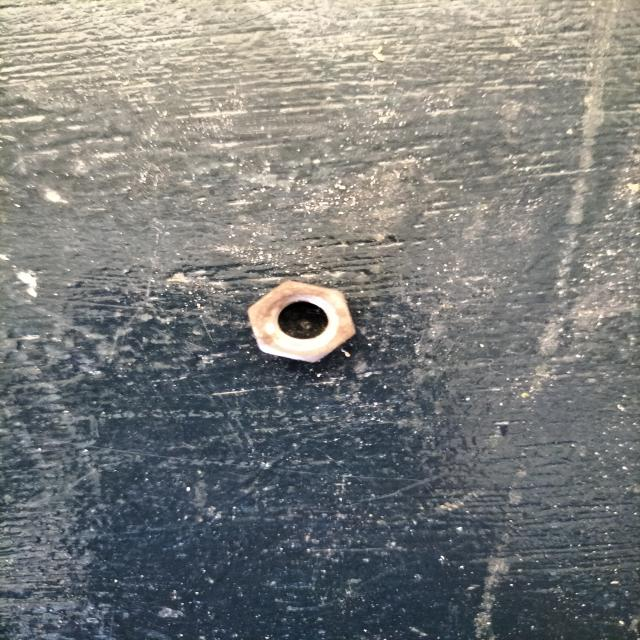nuts: (246, 281, 355, 363)
